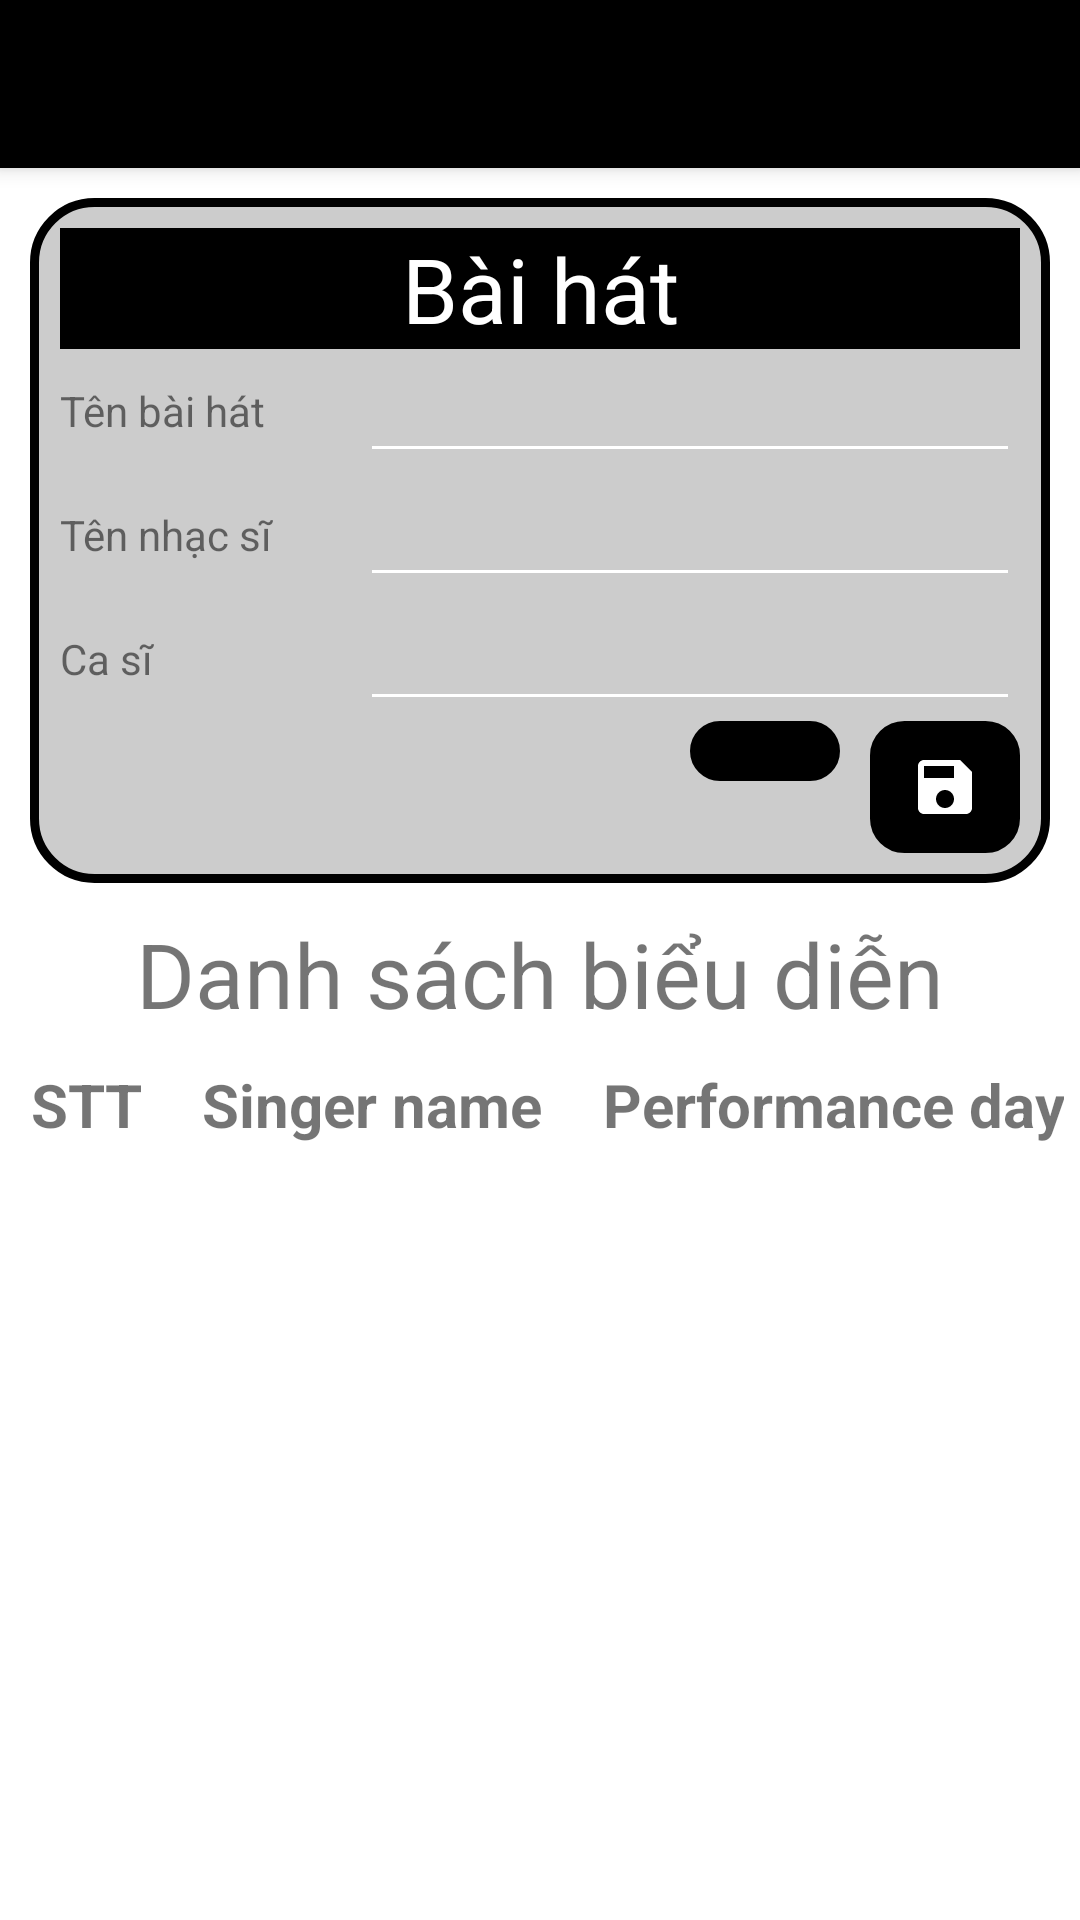

Icons on this 1080px x 1920px Android screen, each with its box as (x1, y1, x2, y2):
save: (870, 721, 1020, 853)
